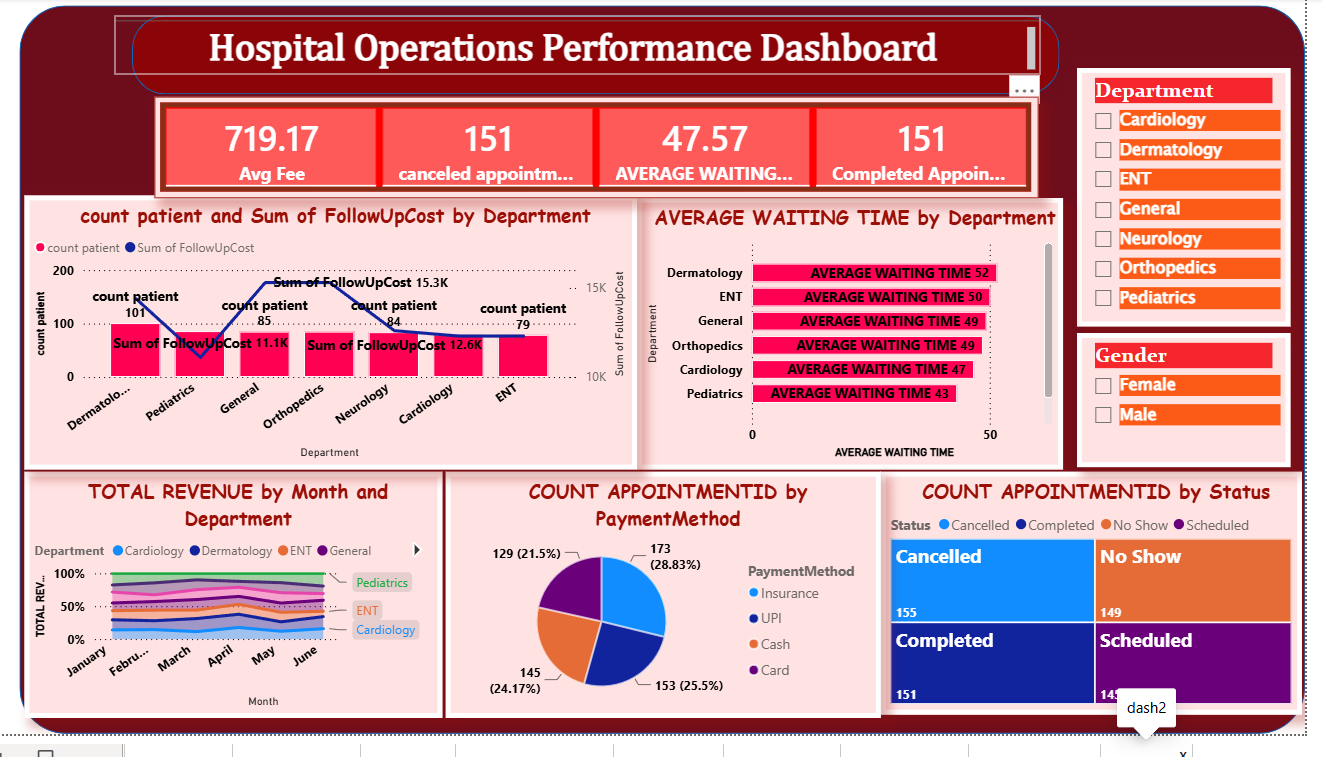

This screenshot's page, from the dashboard's own definition file:
{"tool":"powerbi","page":{"name":"dash2","canvas":[1280,720],"ordinal":11},"visuals":[{"type":"shape","box":[22.5,7.5,1257.5,712.5],"z":0},{"type":"shape","box":[132.1,17.1,907.3,77],"z":1000},{"type":"slicer","fields":{"Values":["Appointments.Department"]},"box":[1056.5,68.5,209.1,253.1],"z":2000},{"type":"clusteredBarChart","fields":{"Y":["Appointments.AVERAGE WAITING TIME"],"Category":["Appointments.Department"]},"box":[626.1,195.7,417,265.4],"z":3000},{"type":"treemap","fields":{"Group":["Appointments.Status"],"Values":["Appointments.COUNT APPOINTMENTID"]},"box":[864.5,463.5,412.1,237.2],"z":4000},{"type":"hundredPercentStackedAreaChart","fields":{"Category":["Appointments.AppointmentDate.Variation.Date Hierarchy.Month","Appointments.AppointmentDate.Variation.Date Hierarchy.Day"],"Y":["Appointments.TOTAL REVENUE"],"Series":["Appointments (2).Department"]},"box":[26.9,463.5,408.4,240.9],"z":5000},{"type":"pieChart","fields":{"Category":["Appointments.PaymentMethod"],"Y":["Appointments.COUNT APPOINTMENTID"]},"box":[439,463.5,425.5,240.9],"z":6000},{"type":"lineClusteredColumnComboChart","fields":{"Category":["Appointments (2).Department"],"Y":["Appointments.count patient"],"Y2":["Sum(Appointments (2).FollowUpCost)"]},"box":[26.9,193.2,599.2,267.8],"z":7000},{"type":"slicer","fields":{"Values":["Appointments.Gender"]},"box":[1056.5,327.7,209.1,130.8],"z":8000},{"type":"textbox","box":[114.9,17.1,906.1,57.5],"z":9000},{"type":"cardVisual","fields":{"Data":["Appointments.Avg Fee","Appointments.Completed","Appointments.AVERAGE WAITING TIME","Appointments.Completed Appointments"]},"box":[154.1,96.6,864.5,99],"z":10000}]}

Visuals, with their boxes in screenshot pixels (x1, y1, x2, y2):
shape: x1=16, y1=4, x2=1297, y2=730
shape: x1=128, y1=14, x2=1052, y2=92
slicer - Appointments.Department: x1=1069, y1=66, x2=1282, y2=324
clusteredBarChart - Appointments.AVERAGE WAITING TIME x Appointments.Department: x1=631, y1=196, x2=1056, y2=466
treemap - Appointments.Status x Appointments.COUNT APPOINTMENTID: x1=874, y1=469, x2=1293, y2=710
hundredPercentStackedAreaChart - Appointments.AppointmentDate.Variation.Date Hierarchy.Month x Appointments.AppointmentDate.Variation.Date Hierarchy.Day: x1=21, y1=469, x2=436, y2=714
pieChart - Appointments.PaymentMethod x Appointments.COUNT APPOINTMENTID: x1=440, y1=469, x2=874, y2=714
lineClusteredColumnComboChart - Appointments (2).Department x Appointments.count patient: x1=21, y1=193, x2=631, y2=466
slicer - Appointments.Gender: x1=1069, y1=330, x2=1282, y2=464
textbox: x1=110, y1=14, x2=1033, y2=73
cardVisual - Appointments.Avg Fee x Appointments.Completed: x1=150, y1=95, x2=1031, y2=196
